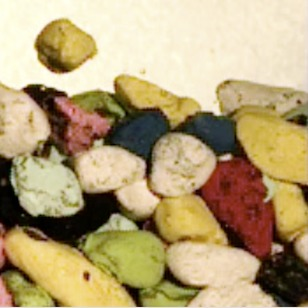black: (21, 83, 67, 153), (257, 253, 307, 308)
blue: (105, 109, 171, 161), (184, 111, 236, 156)
green: (77, 230, 164, 287), (9, 154, 85, 219), (70, 88, 124, 124), (97, 213, 139, 231)
pink: (52, 96, 110, 155)
white: (147, 133, 216, 195), (163, 241, 256, 285), (71, 145, 146, 193), (215, 79, 308, 117), (113, 181, 160, 220)
yellow: (198, 161, 273, 258), (235, 114, 308, 183), (114, 74, 201, 131), (153, 195, 227, 246), (35, 19, 98, 75)
